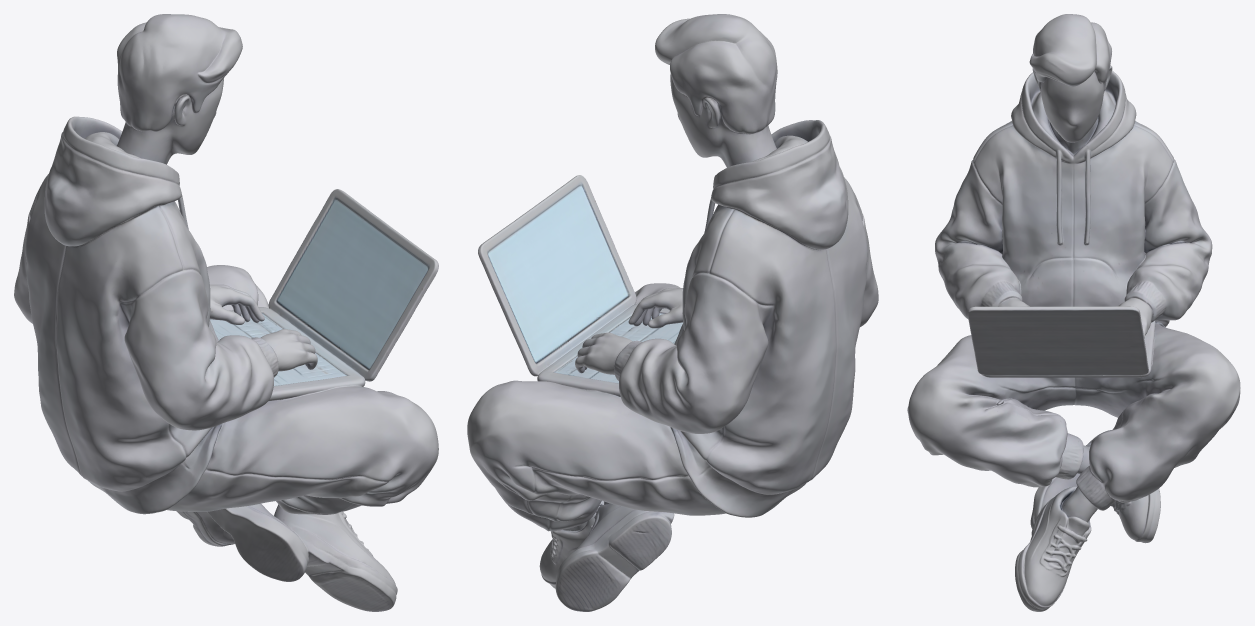
The picture shows the model from 3 angles, left to right: view 1: azimuth 30°, elevation 25°; view 2: azimuth 150°, elevation 25°; view 3: azimuth 270°, elevation 25°; orthographic projection. The views are drawn at different scales.
Parts seen in each view (by area): view 1: tripo_node_f8408c59-1d44-4b3e-8e37-7a60b3ebeb9c; view 2: tripo_node_f8408c59-1d44-4b3e-8e37-7a60b3ebeb9c; view 3: tripo_node_f8408c59-1d44-4b3e-8e37-7a60b3ebeb9c.
Boxes of the visible parts, box(x1,y1,x2,y2) form: tripo_node_f8408c59-1d44-4b3e-8e37-7a60b3ebeb9c: box(14, 14, 438, 611); tripo_node_f8408c59-1d44-4b3e-8e37-7a60b3ebeb9c: box(467, 14, 878, 611); tripo_node_f8408c59-1d44-4b3e-8e37-7a60b3ebeb9c: box(907, 14, 1240, 611).
Bounding box in the file's own units: 0.5428 × 1 × 0.5813.
1 material, 1 textured.
